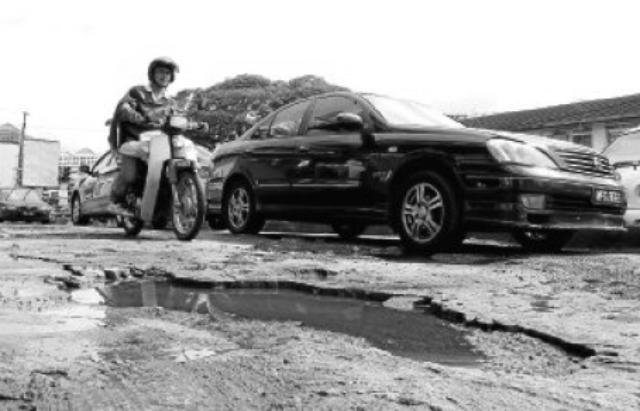Pothole: (41, 266, 599, 376)
